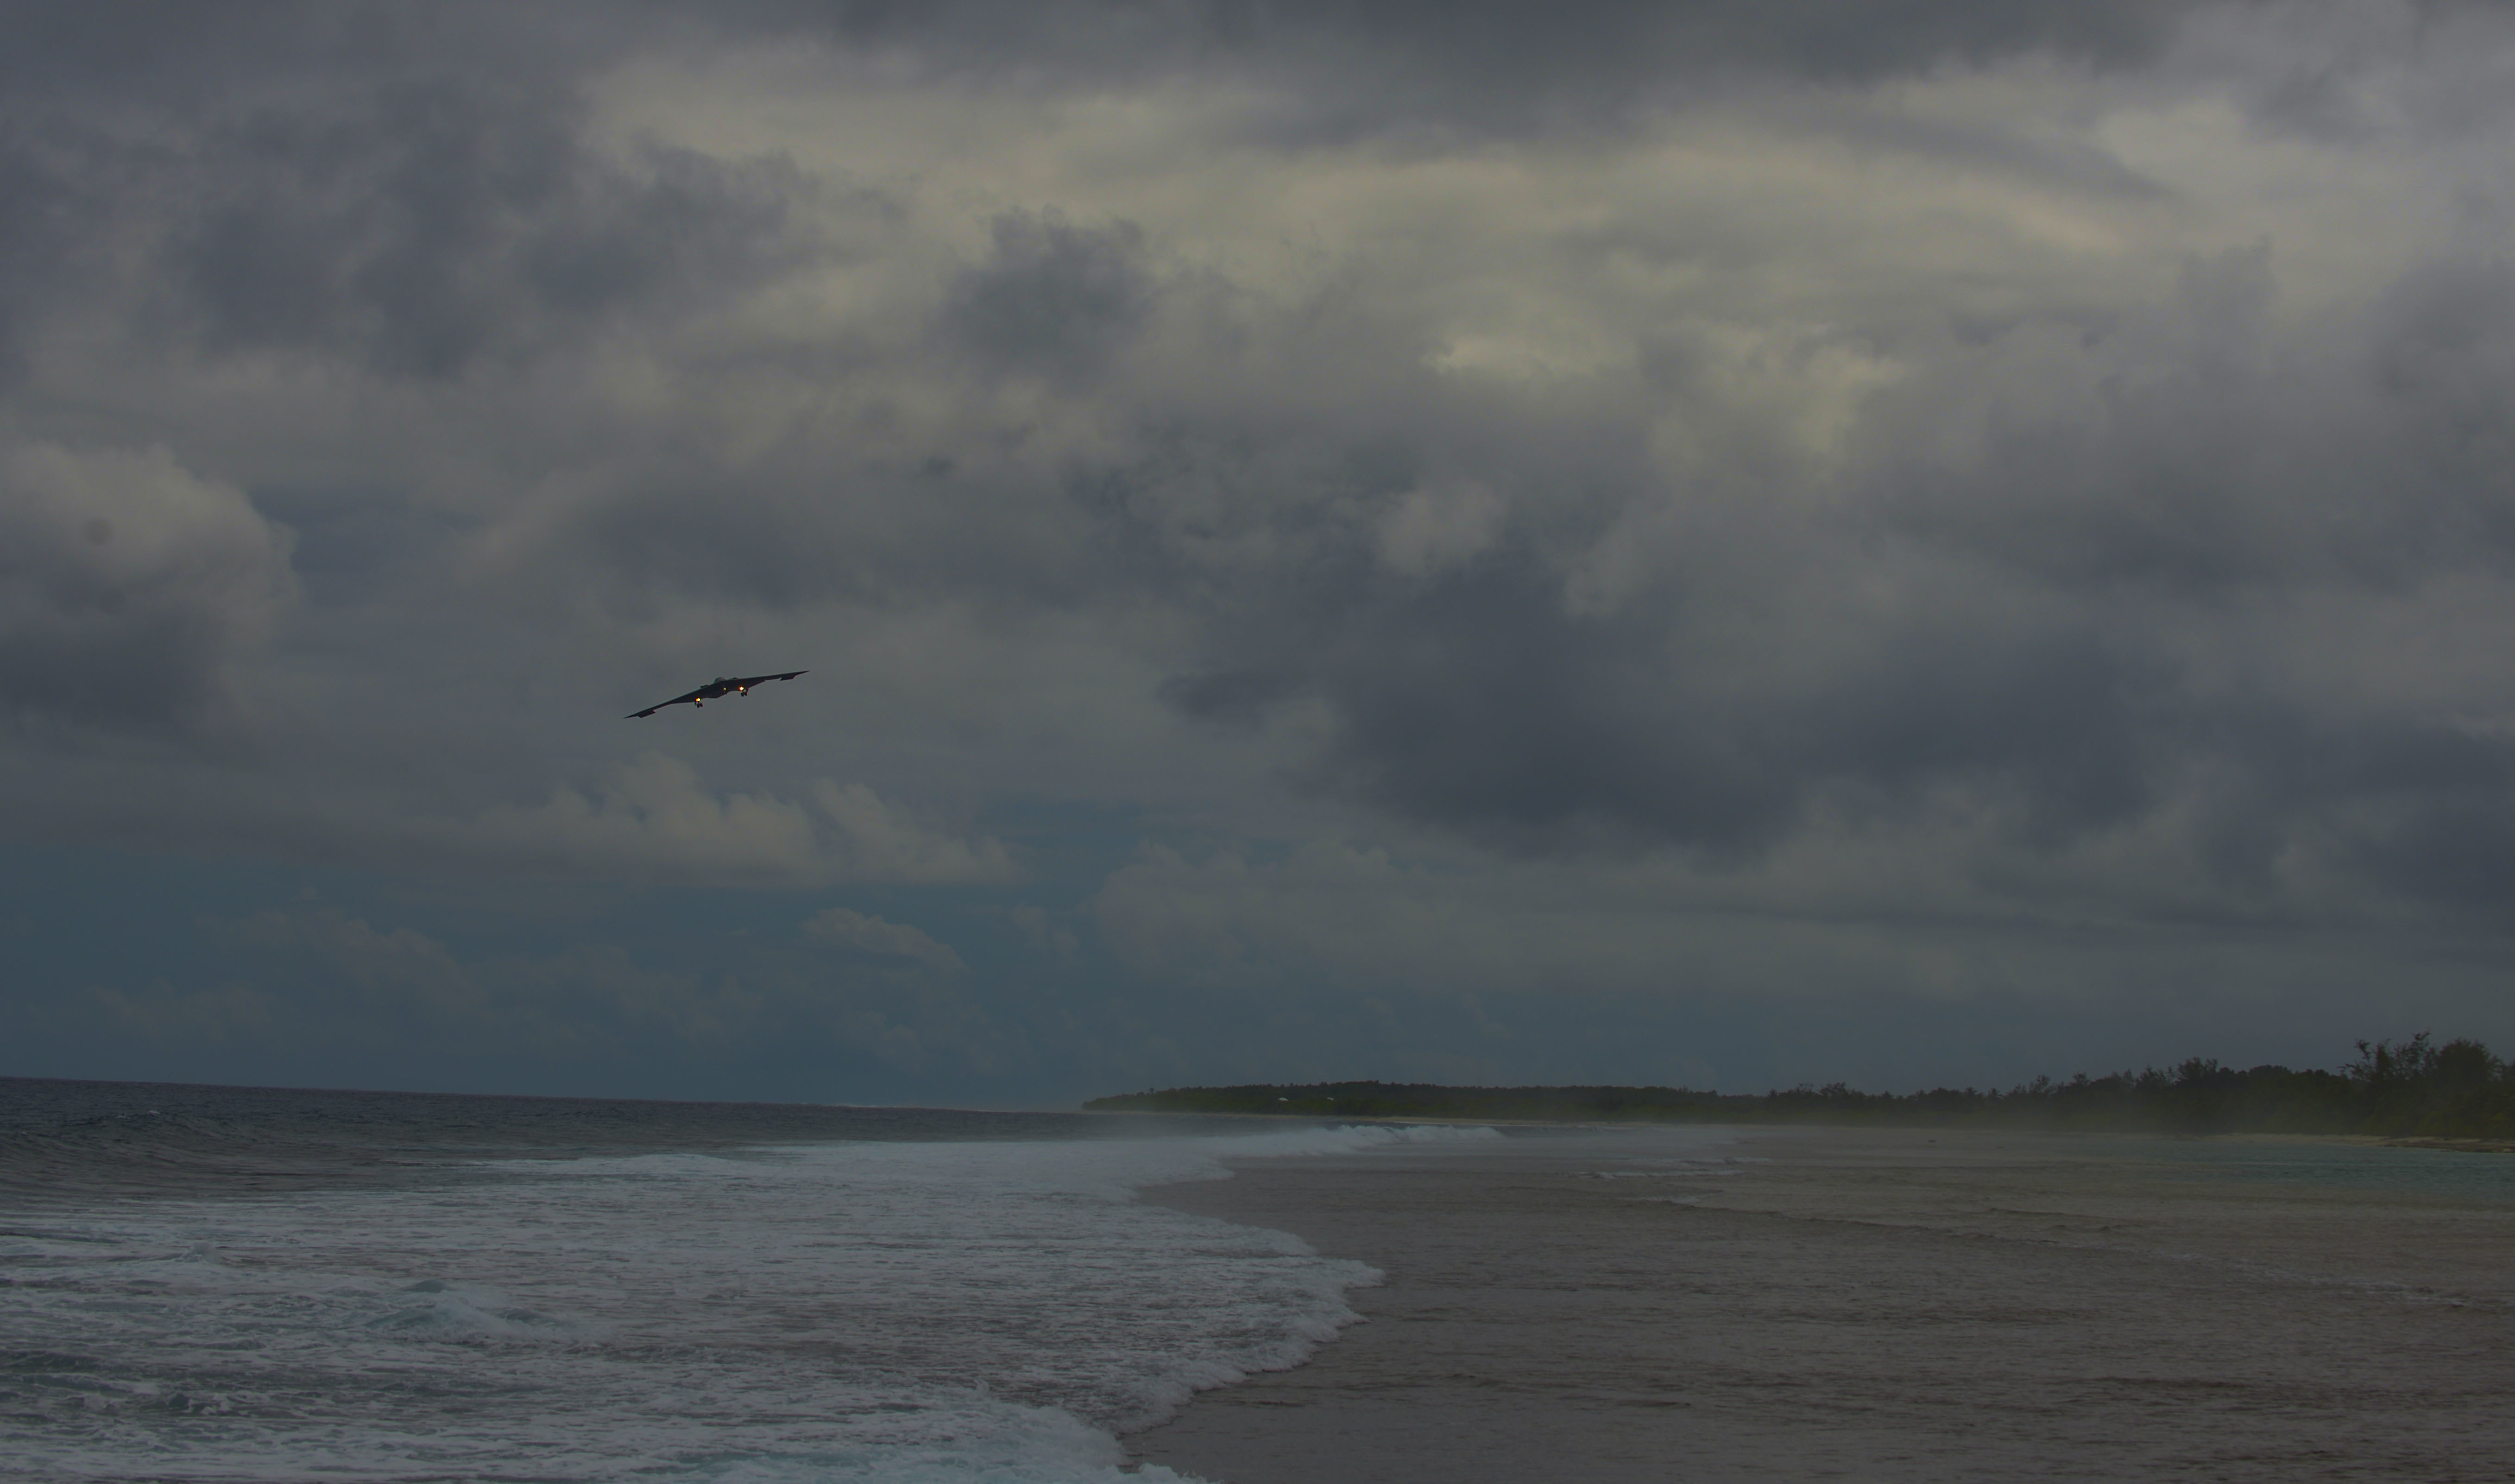B2: (623, 670, 811, 719)
